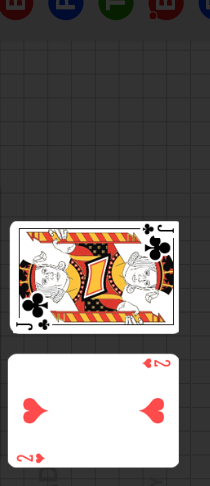2H: (140, 358, 172, 370)
JC: (140, 222, 175, 237)
